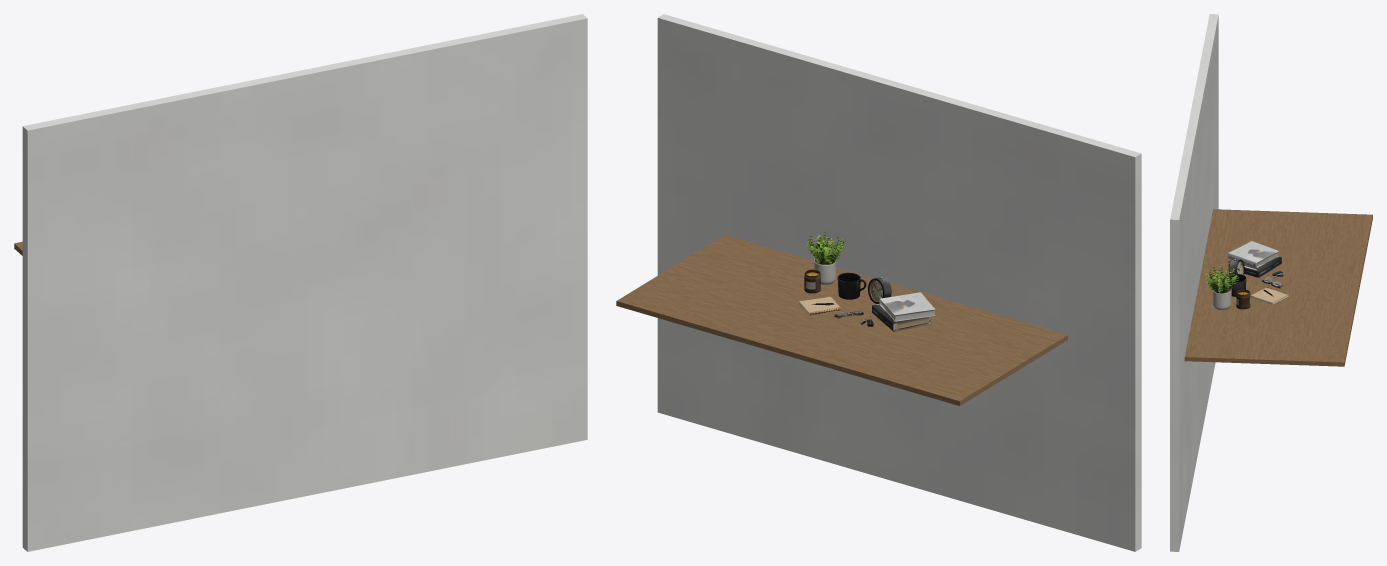
The model's file is ours.glb.
3 renders of one model, left to right at view 1: azimuth 30°, elevation 25°; view 2: azimuth 150°, elevation 25°; view 3: azimuth 270°, elevation 25°, orthographic. The views are drawn at different scales.
Parts seen in each view (by area): view 1: wall_0; view 2: wall_0, desk_0, obj_book_1, obj_flowerpot_0, obj_book_0; view 3: desk_0, wall_0, obj_flowerpot_0, obj_book_1, obj_book_0, obj_notebook_0, obj_candle_0.
Part boxes in pixels (bbox=[...]): wall_0: bbox=[22, 14, 587, 551]; wall_0: bbox=[657, 14, 1141, 551]; desk_0: bbox=[616, 235, 1067, 405]; obj_book_1: bbox=[879, 292, 935, 321]; obj_flowerpot_0: bbox=[806, 232, 844, 284]; obj_book_0: bbox=[872, 304, 932, 331]; desk_0: bbox=[1184, 209, 1372, 366]; wall_0: bbox=[1170, 14, 1218, 551]; obj_flowerpot_0: bbox=[1206, 266, 1239, 309]; obj_book_1: bbox=[1228, 241, 1279, 267]; obj_book_0: bbox=[1227, 255, 1281, 277]; obj_notebook_0: bbox=[1250, 287, 1288, 304]; obj_candle_0: bbox=[1236, 289, 1250, 309].
Size of the model in its own units: 3.19 by 2.4 by 1.33.
12 materials, 12 textured.
